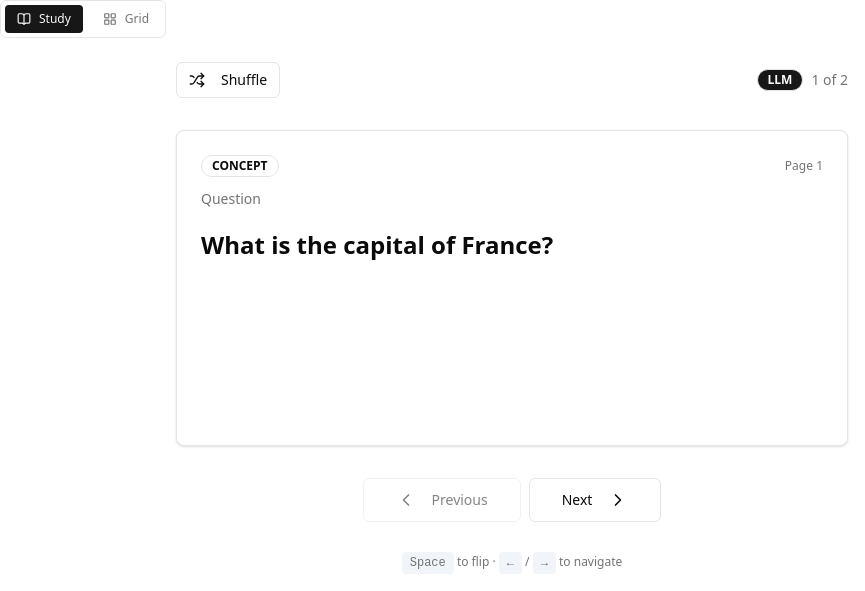
Scenario: FlashcardList › flips card in study mode on click
Click the text "What is the capital of France?": (377, 244) [201, 228, 553, 261]
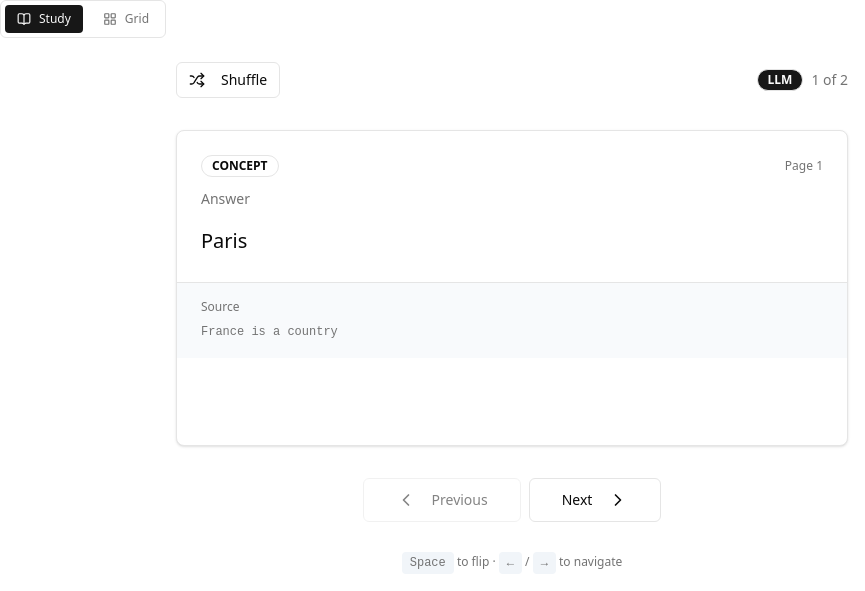
Result: the text "Paris" is shown at [201, 227, 247, 254]
